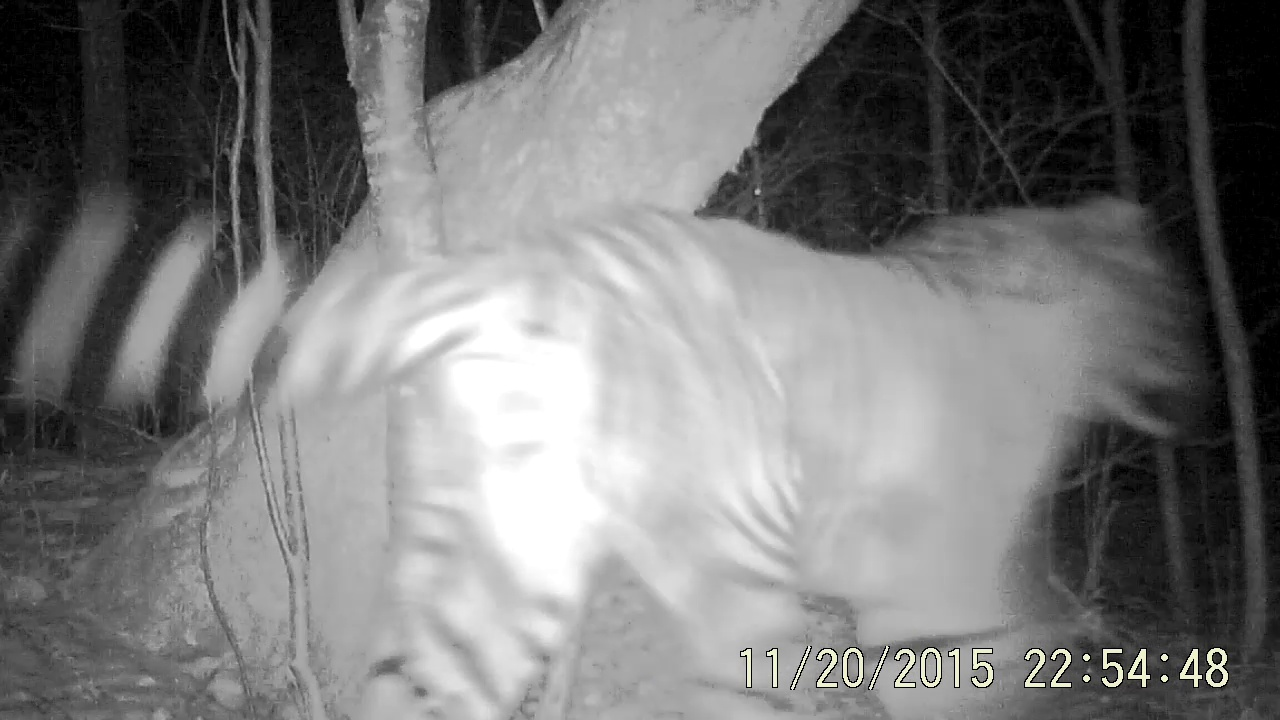Tiger: (7, 88, 1236, 635)
